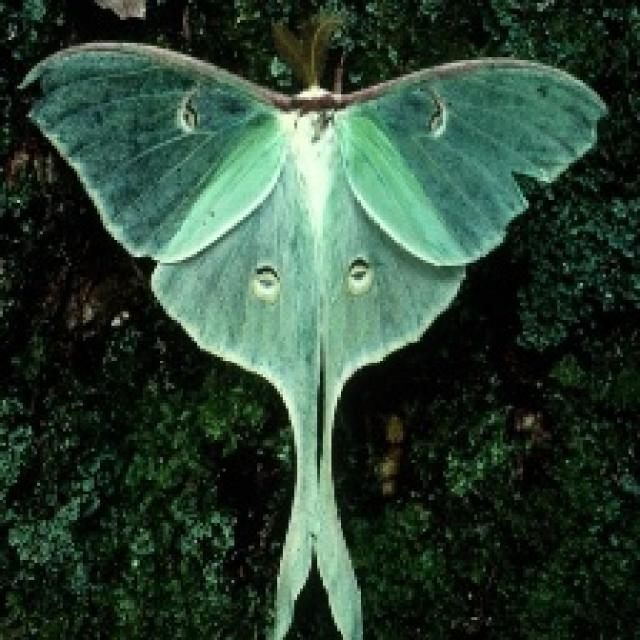butterfly: (14, 9, 609, 637)
